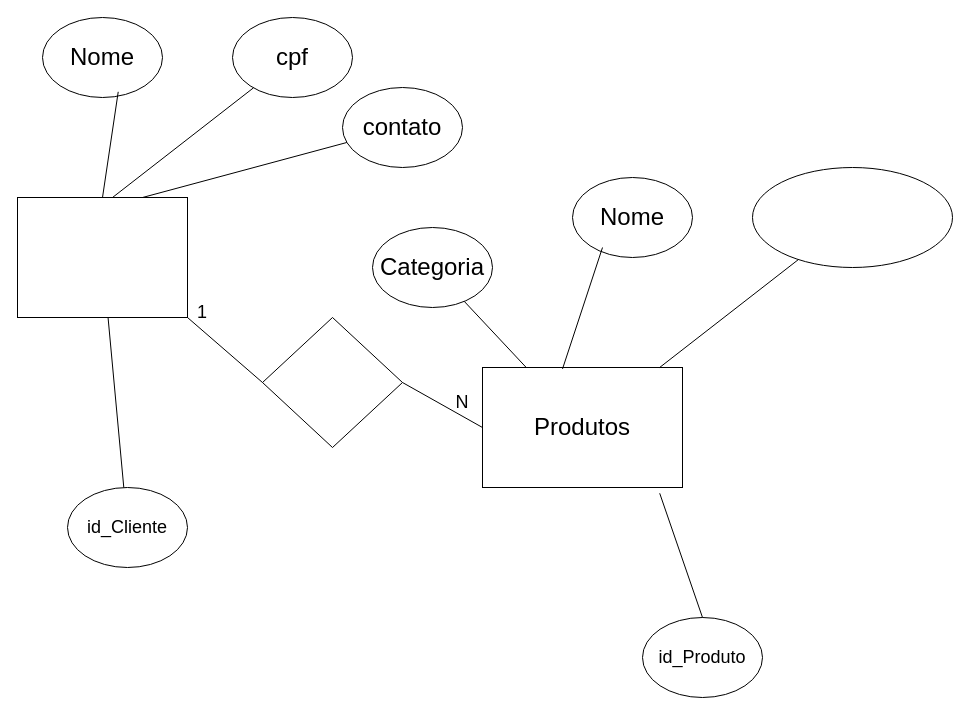
Image size: 970x715. Some labels were removed from this diagram. Each missing label, with the centre of its shape:
"Cliente" goes at point (102, 257).
"POSSUI" goes at point (332, 382).
"Preco_Compra" goes at point (852, 217).
